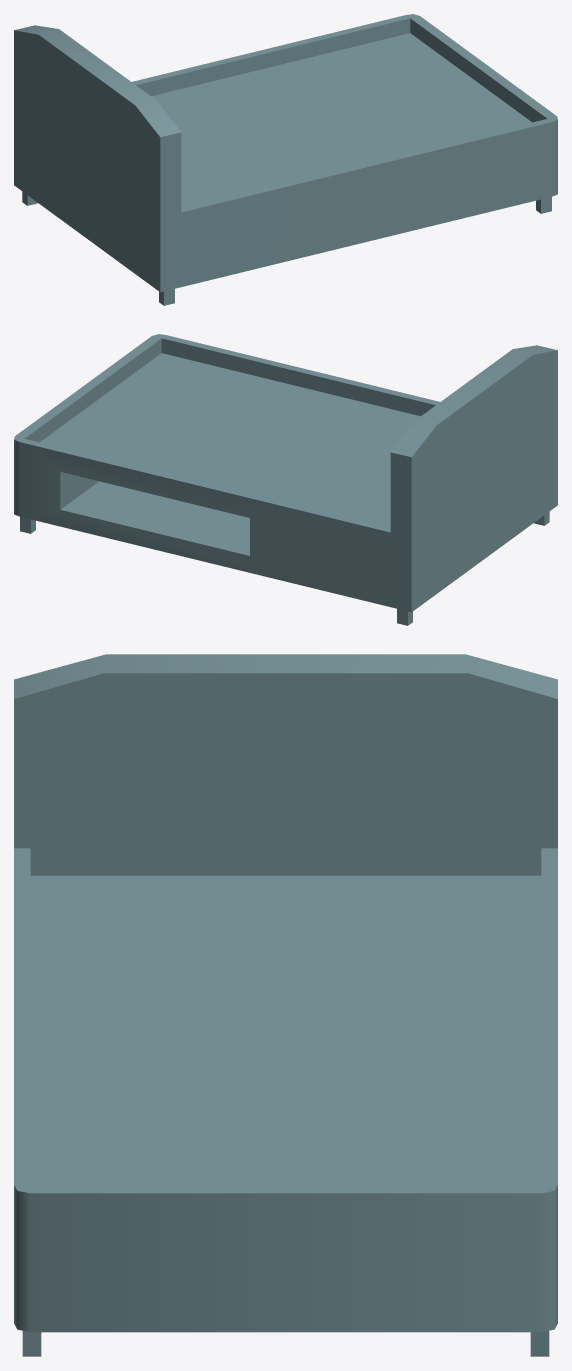
File: Bed_Main.fbx
3 views of the same model, one above another, from view 1: azimuth 30°, elevation 25°; view 2: azimuth 150°, elevation 25°; view 3: azimuth 270°, elevation 25° (orthographic). The views are drawn at different scales.
Visible parts, largest first — view 1: Bed_Main; view 2: Bed_Main; view 3: Bed_Main.
Boxes of the visible parts, x1=… form: Bed_Main: x1=14, y1=14, x2=557, y2=305; Bed_Main: x1=14, y1=334, x2=557, y2=625; Bed_Main: x1=14, y1=654, x2=557, y2=1356.
Bounding box in the file's own units: 264 × 117 × 167.
